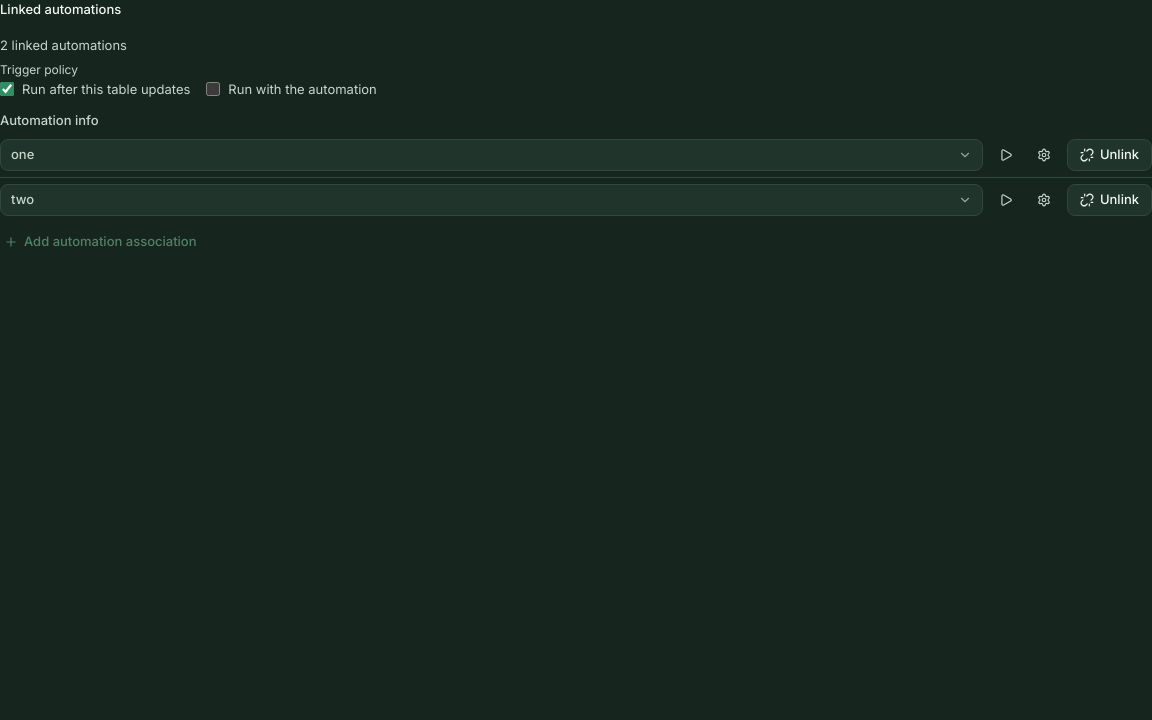
table association conditions › removes result subscription and sync action in one update
This screenshot has width=1152, height=720.
Step 1. Click the 1st button "Unlink" → (1109, 154), box [1067, 138, 1151, 170]
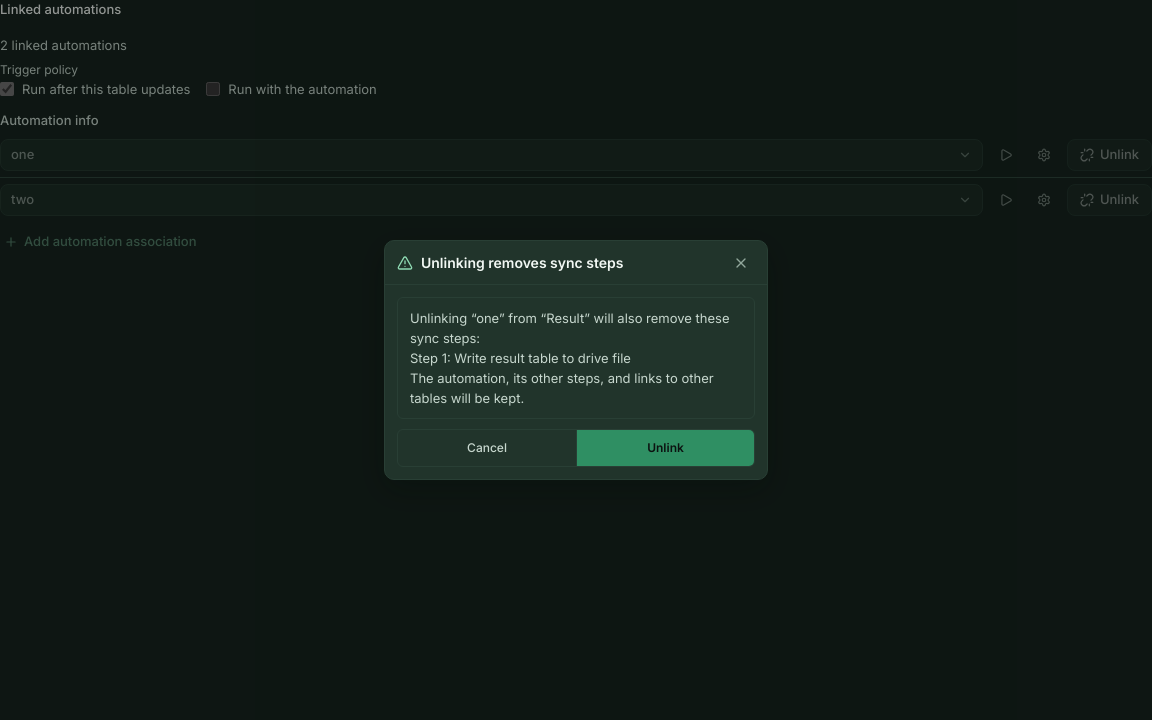
Result: the text "Step 1:" is shown at [410, 350, 631, 366]
Step 2. Click the button "Cancel" → (487, 448), box [398, 430, 576, 466]
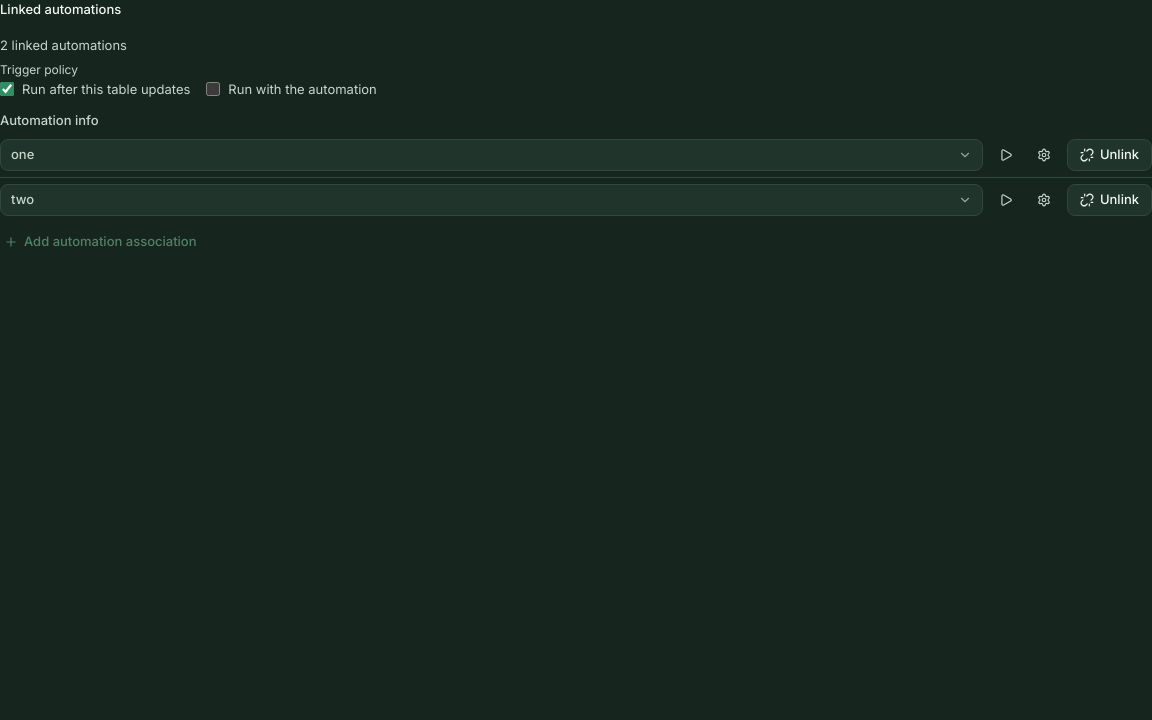
Result: the 1st button "Unlink" is enabled
Step 3. Click the 1st button "Unlink" → (1109, 154), box [1067, 138, 1151, 170]
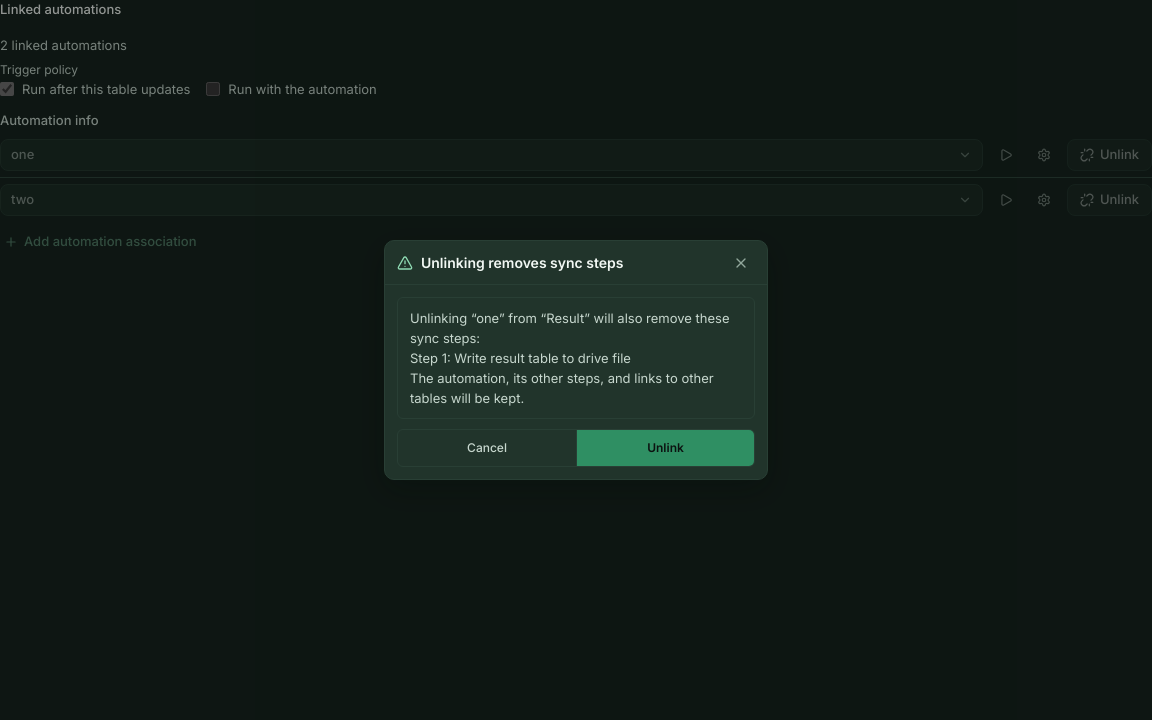
Step 4. Click the button "Unlink" → (665, 448), box [576, 430, 754, 466]
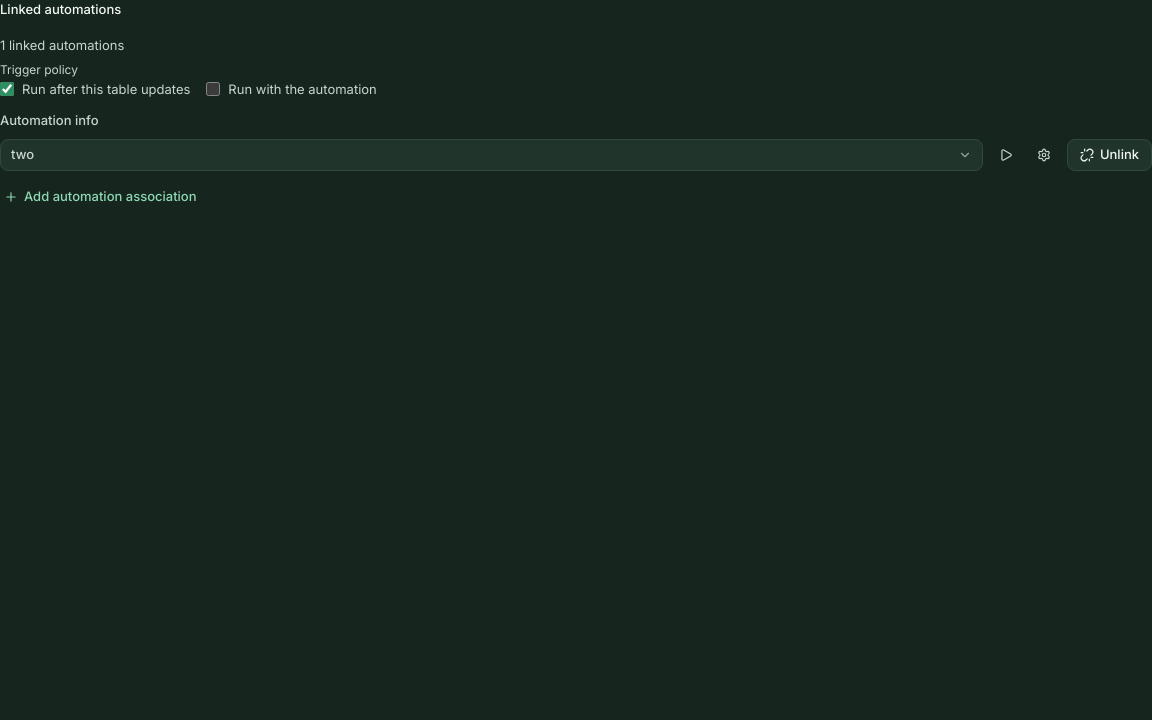
Expected: the list item "two" is shown, [0, 138, 1151, 176]
Result: the dropdown labelled "one" is gone
